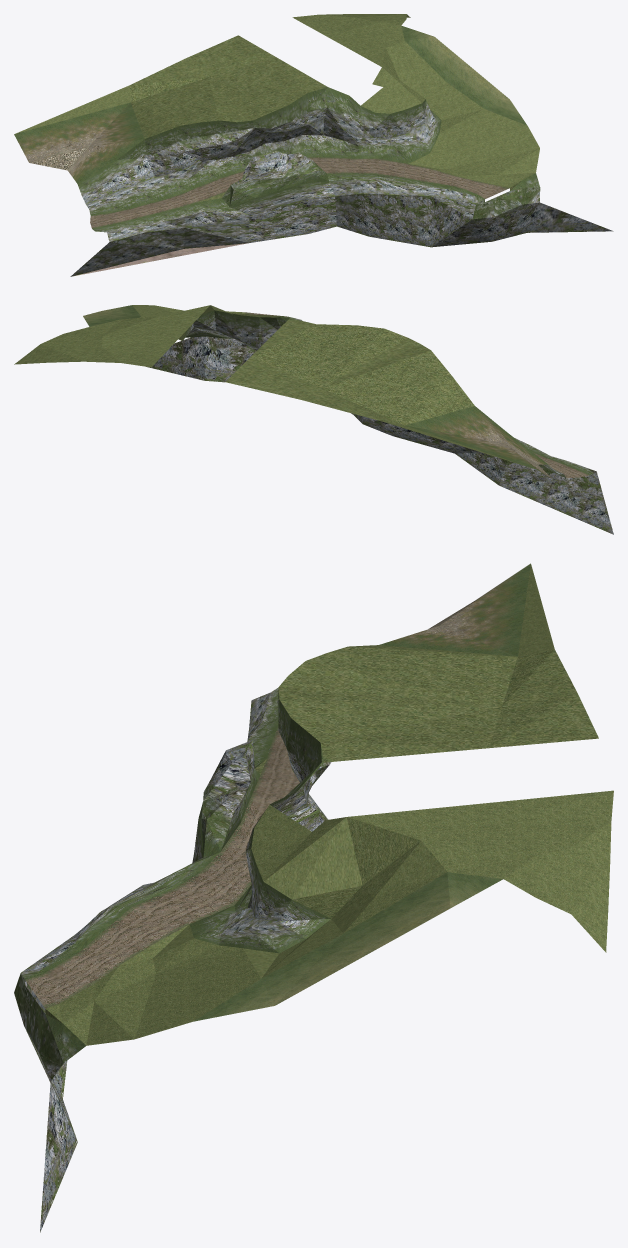
File: cunteground37.obj
The picture shows the model from 3 angles, top to bottom: view 1: azimuth 30°, elevation 25°; view 2: azimuth 150°, elevation 25°; view 3: azimuth 270°, elevation 25°; orthographic projection. The views are drawn at different scales.
Parts seen in each view (by area): view 1: cuntEground37; view 2: cuntEground37; view 3: cuntEground37.
Part boxes in pixels (x1,y1,x2,y2): cuntEground37: [14, 14, 613, 276]; cuntEground37: [14, 305, 613, 534]; cuntEground37: [14, 563, 613, 1232].
Size of the model in its own units: 172 by 50.73 by 97.99.
